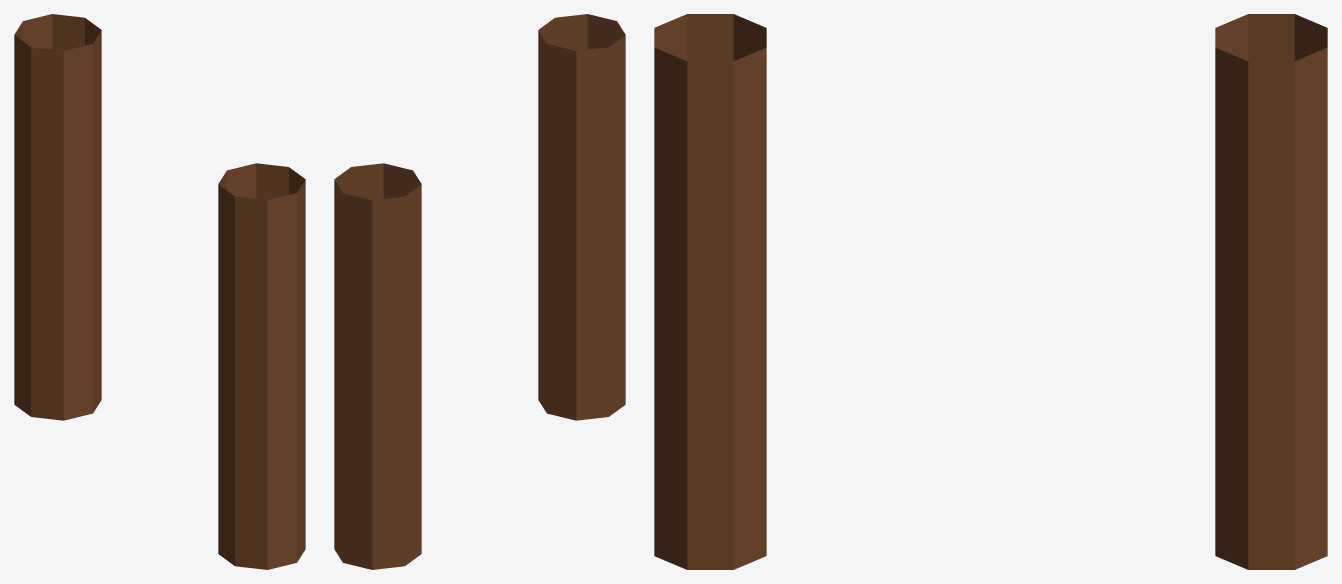
The model's file is Track_Bridge_Piers.obj.
The picture shows the model from 3 angles, left to right: view 1: azimuth 30°, elevation 25°; view 2: azimuth 150°, elevation 25°; view 3: azimuth 270°, elevation 25°; orthographic projection. The views are drawn at different scales.
Parts seen in each view (by area): view 1: Bridge_Pier; view 2: Bridge_Pier; view 3: Bridge_Pier.
Part boxes in pixels (x1,y1,x2,y2): Bridge_Pier: (14, 14, 305, 569); Bridge_Pier: (334, 14, 625, 569); Bridge_Pier: (654, 14, 1327, 569).
Bounding box in the file's own units: 0.2 × 1 × 1.2.
